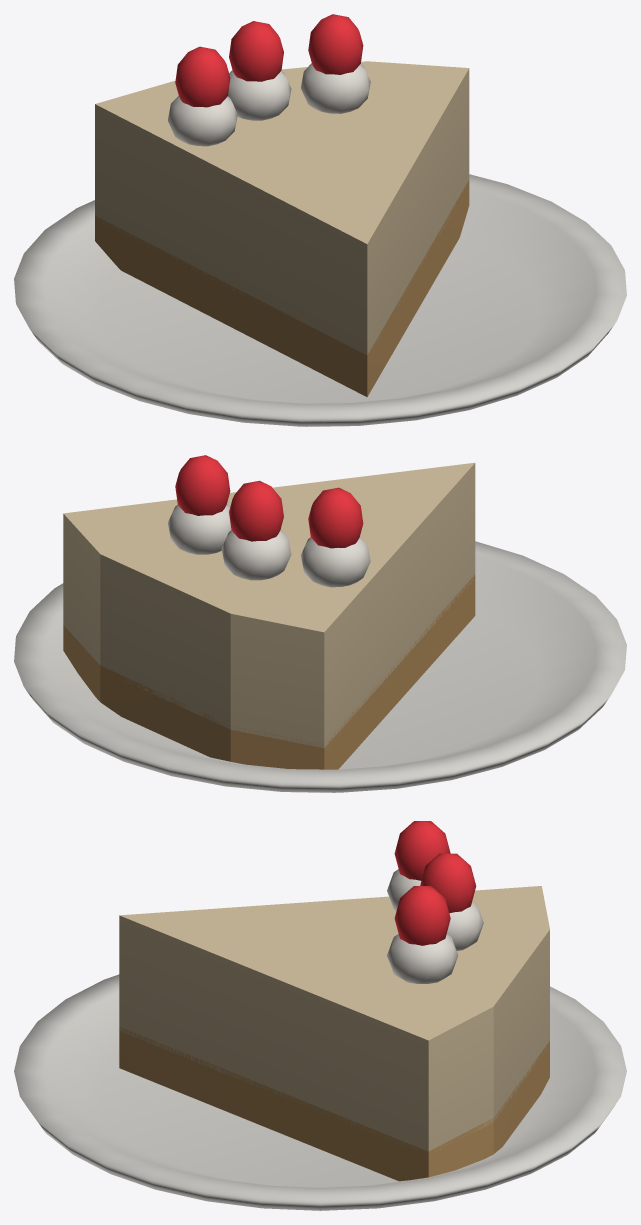
The model's file is item_dish_shortcake.glb.
The picture shows the model from 3 angles, top to bottom: view 1: azimuth 30°, elevation 25°; view 2: azimuth 150°, elevation 25°; view 3: azimuth 270°, elevation 25°; orthographic projection.
Visible parts, largest first — view 1: item_dish_shortcake_main, item_dish_shortcake_gloss; view 2: item_dish_shortcake_main, item_dish_shortcake_gloss; view 3: item_dish_shortcake_main, item_dish_shortcake_gloss.
Boxes of the visible parts, <box> form: item_dish_shortcake_main: <box>14,61,626,426</box>; item_dish_shortcake_gloss: <box>175,14,363,107</box>; item_dish_shortcake_main: <box>14,462,626,792</box>; item_dish_shortcake_gloss: <box>175,455,363,548</box>; item_dish_shortcake_main: <box>14,869,626,1210</box>; item_dish_shortcake_gloss: <box>394,821,476,945</box>.
Bounding box in the file's own units: 0.24 × 0.114 × 0.24.
